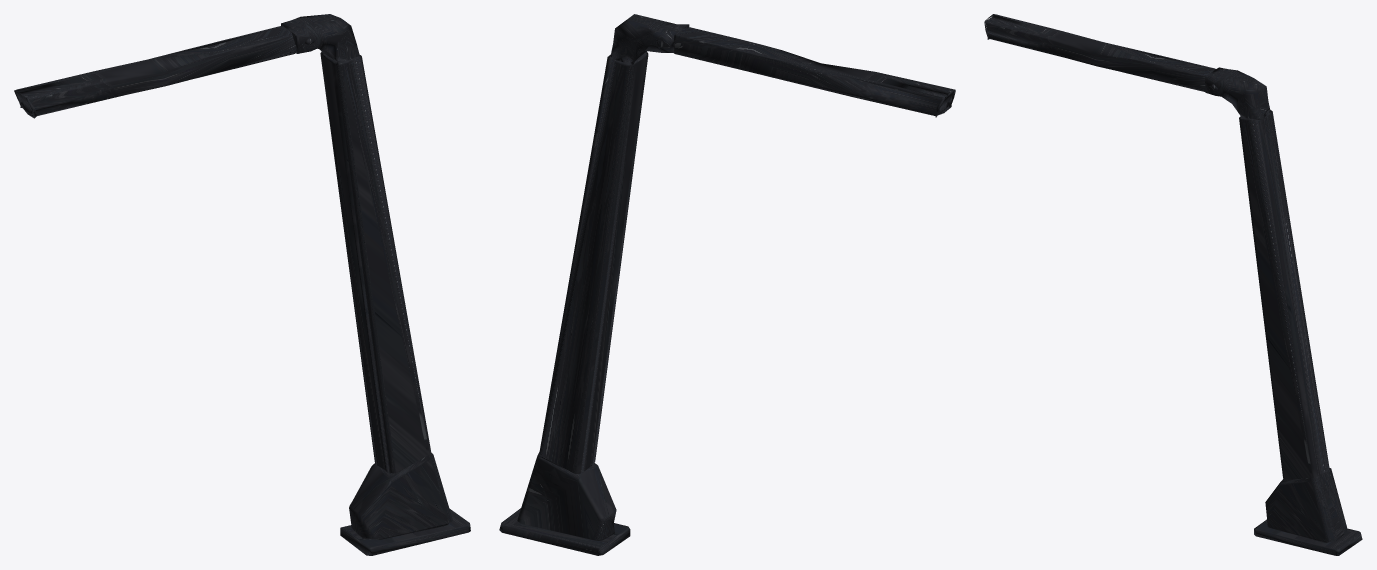
Rendered from street_lamp.glb.
3 renders of one model, left to right at view 1: azimuth 30°, elevation 25°; view 2: azimuth 150°, elevation 25°; view 3: azimuth 330°, elevation 25°, orthographic. The views are drawn at different scales.
Bounding box in the file's own units: 0.8605 × 1 × 0.1047.
1 material, 1 textured.
